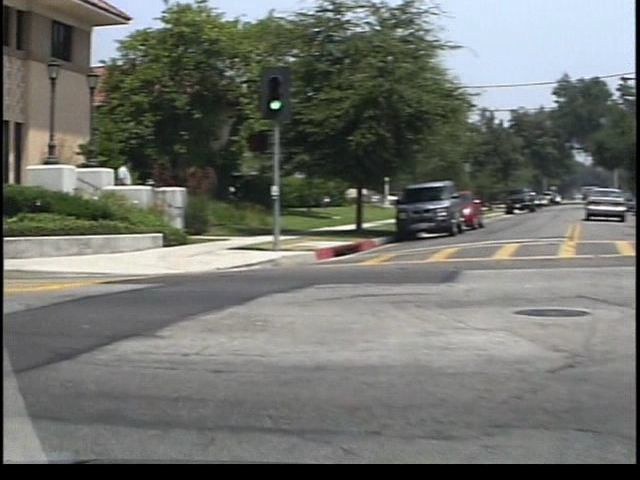person: (105, 152, 126, 218)
